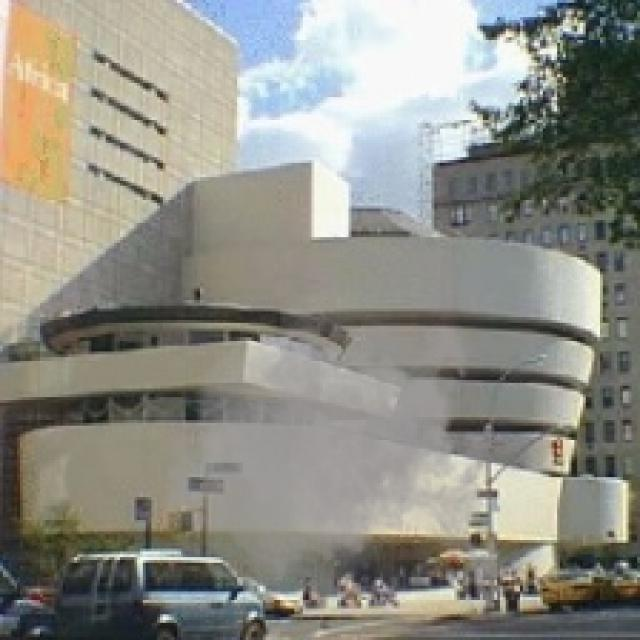Smoke: (157, 274, 512, 637)
